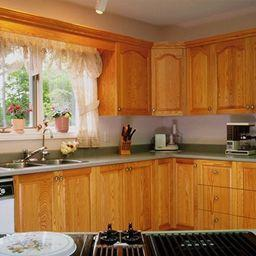Electrodomestico: (4, 229, 252, 255)
Lavaplatos: (5, 123, 87, 175)
